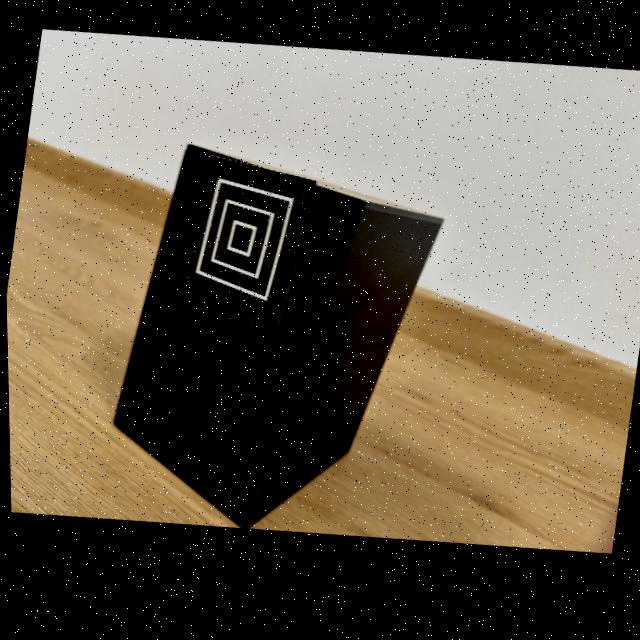BULLSEYE: (176, 158, 317, 333)
